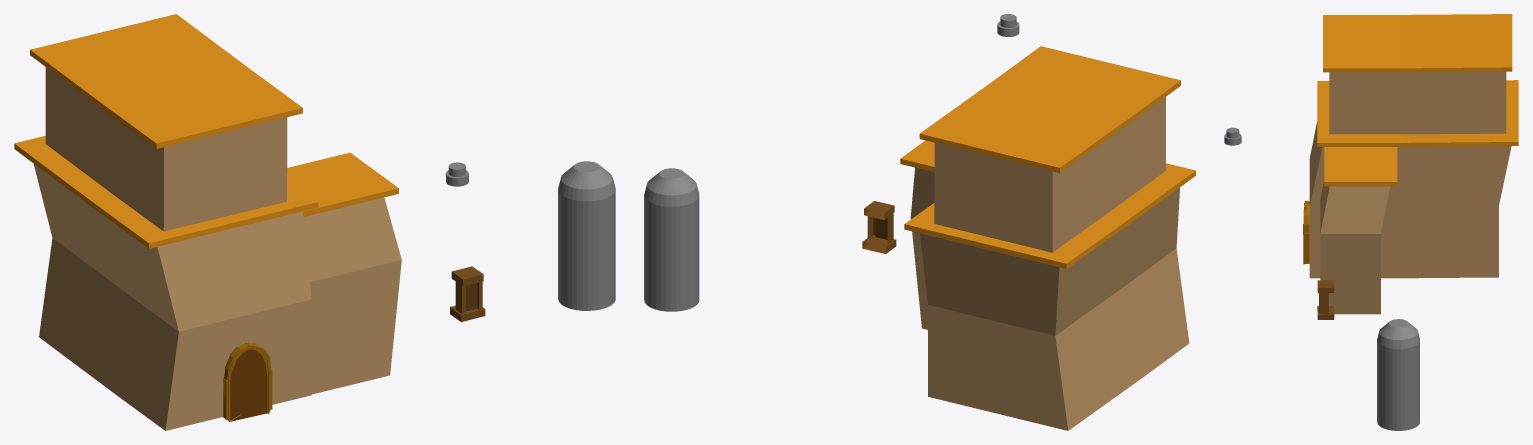
File: House_6.fbx
3 renders of one model, left to right at view 1: azimuth 30°, elevation 25°; view 2: azimuth 150°, elevation 25°; view 3: azimuth 270°, elevation 25°, orthographic. The views are drawn at different scales.
Visible parts, largest first — view 1: Cube, Cylinder.002, Cube.466, Cube.019; view 2: Cube, Cylinder.002, Cube.019; view 3: Cube, Cylinder.002, Cube.019, Cube.466.
Boxes of the visible parts, left/top/right/bottom form: Cube: left=14, top=14, right=401, bottom=430; Cylinder.002: left=558, top=161, right=615, bottom=310; Cube.466: left=223, top=342, right=272, bottom=421; Cube.019: left=450, top=266, right=485, bottom=321; Cube: left=900, top=46, right=1195, bottom=430; Cylinder.002: left=644, top=168, right=699, bottom=311; Cube.019: left=862, top=201, right=896, bottom=253; Cube: left=1309, top=14, right=1518, bottom=314; Cylinder.002: left=1377, top=319, right=1419, bottom=430; Cube.019: left=1317, top=280, right=1334, bottom=319; Cube.466: left=1303, top=201, right=1309, bottom=264.
Size of the model in its own units: 2070 by 1189 by 1364.
